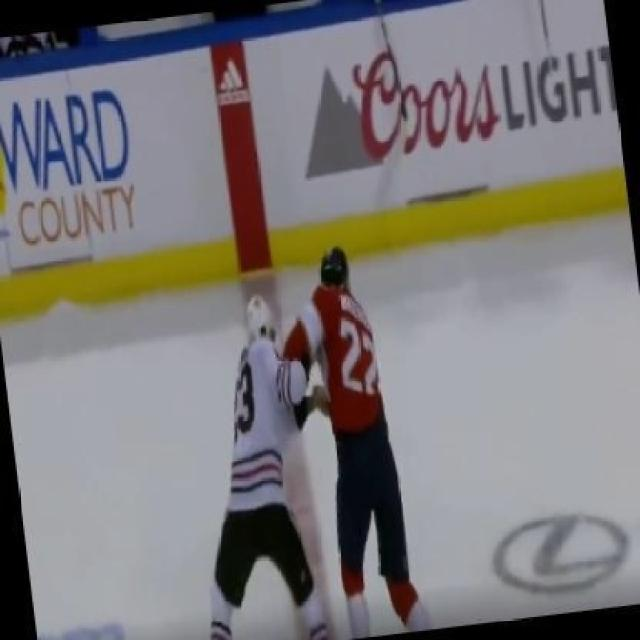fight: (199, 244, 435, 638)
